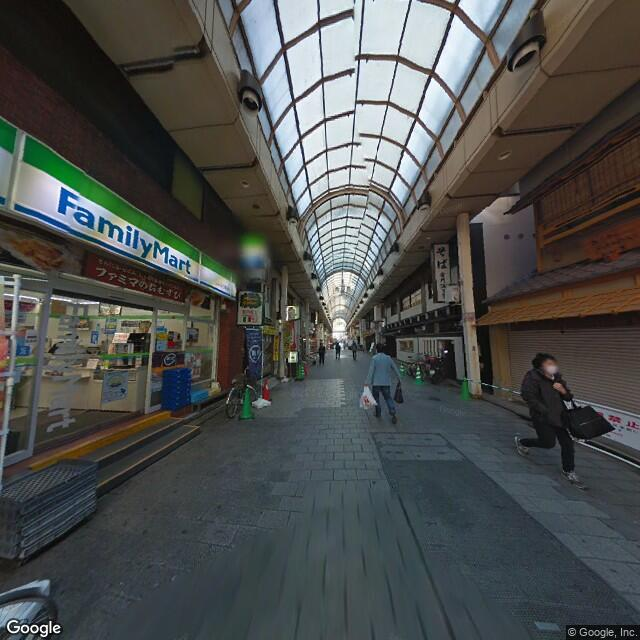family_mart: (1, 119, 240, 304), (54, 183, 196, 281)
